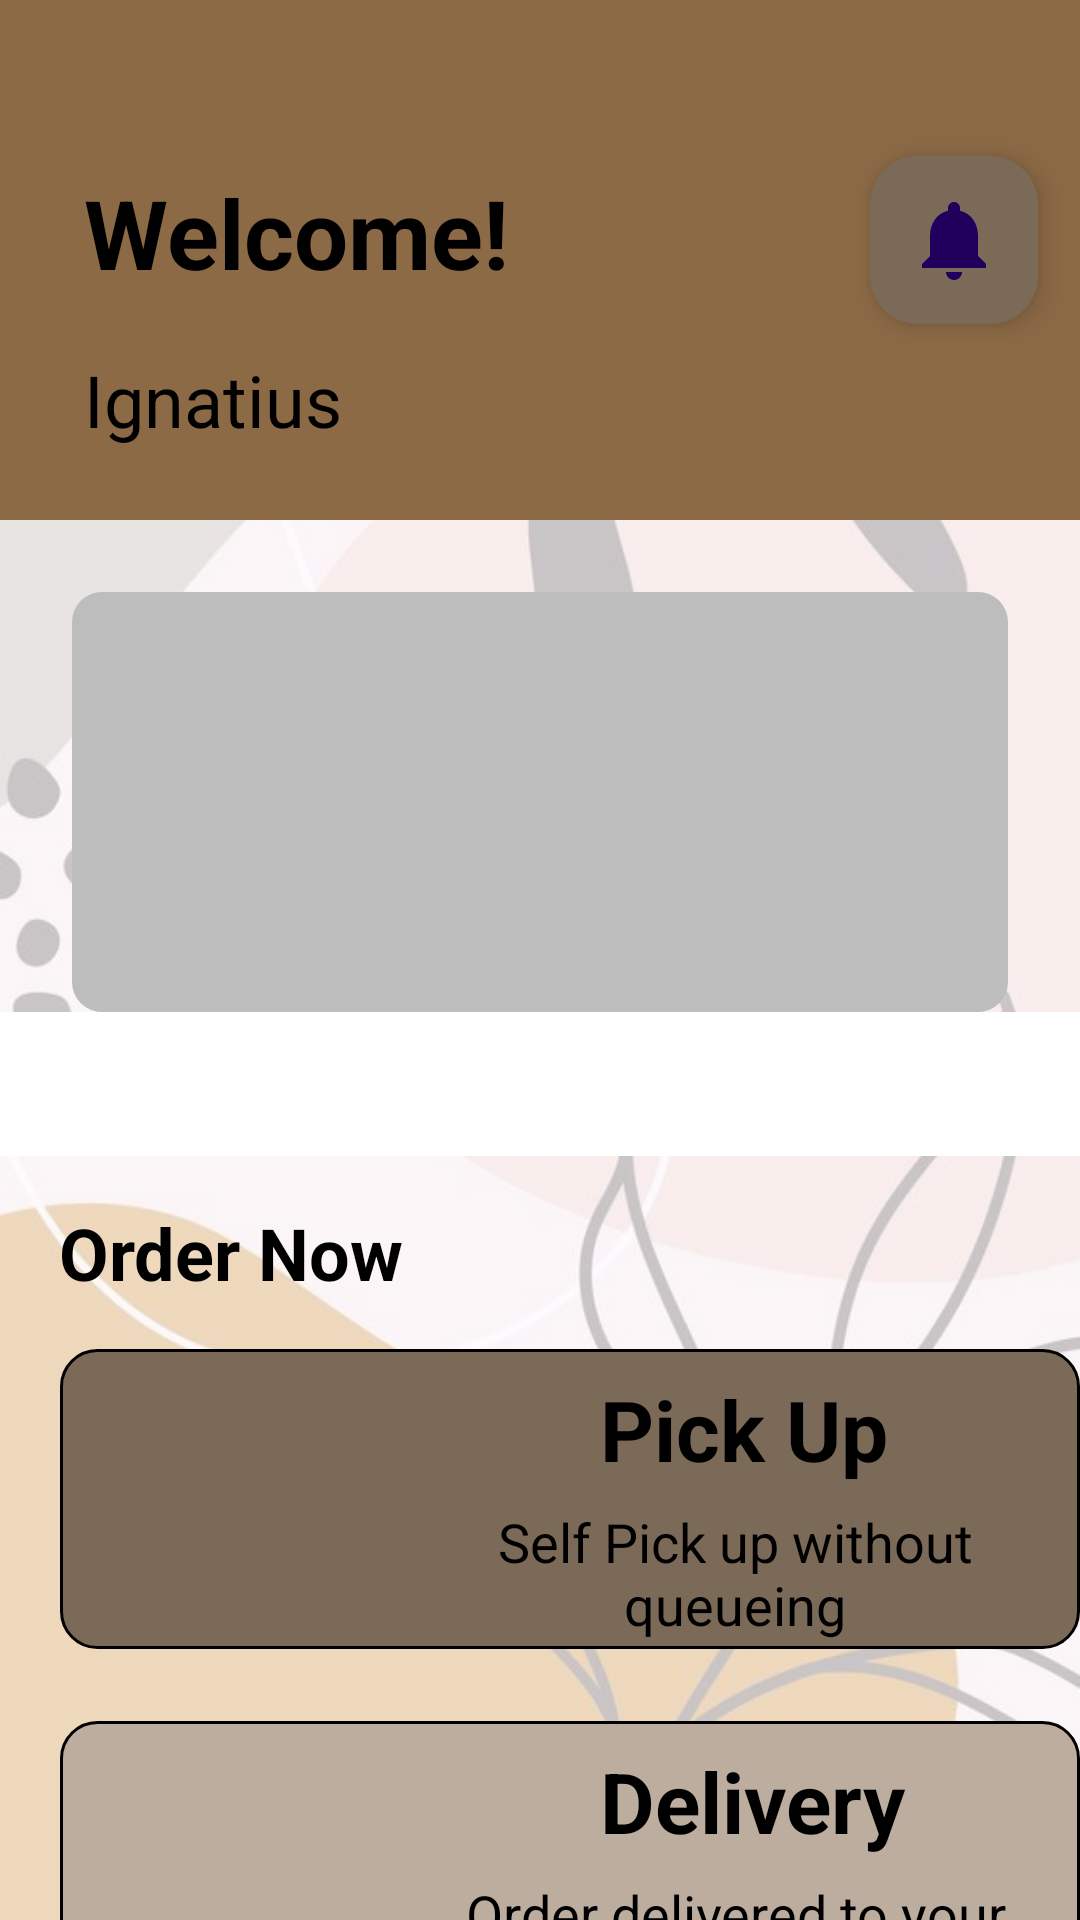

Where icons sit on this 1080 x 1920 app screen, as (x1, y1, x2, y2):
notifications: (922, 202, 986, 280)
